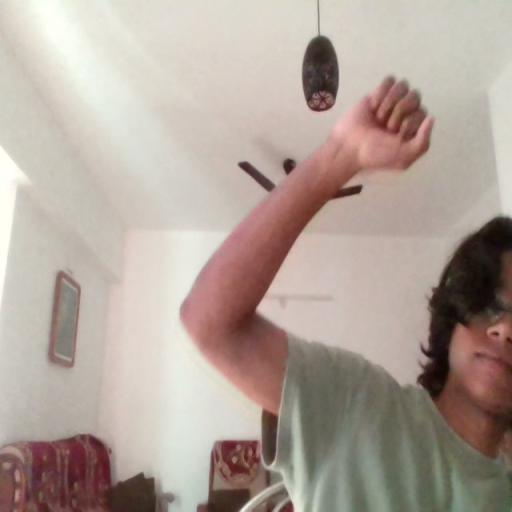Rock: (340, 77, 438, 174)
